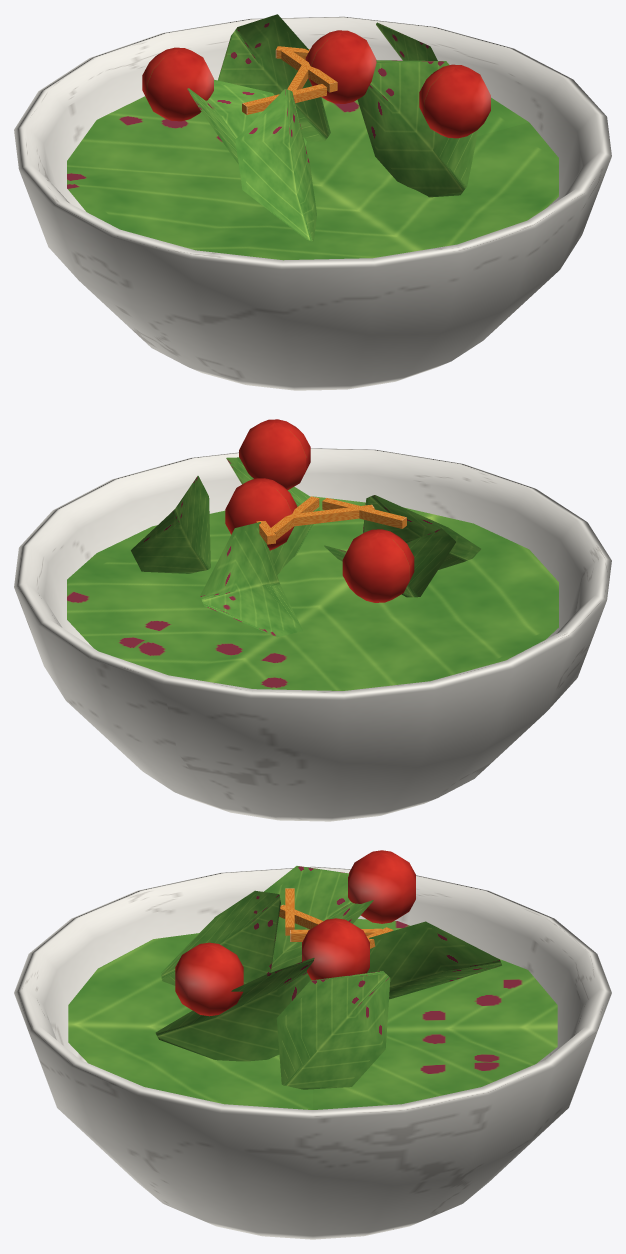
Rendered from gardensalad.obj.
3 renders of one model, top to bottom at view 1: azimuth 30°, elevation 25°; view 2: azimuth 150°, elevation 25°; view 3: azimuth 270°, elevation 25°, orthographic.
Visible parts, largest first — view 1: gardensalad_0_surface; view 2: gardensalad_0_surface; view 3: gardensalad_0_surface.
Boxes of the visible parts, left/top/right/bottom form: gardensalad_0_surface: left=14, top=14, right=611, bottom=390; gardensalad_0_surface: left=14, top=419, right=611, bottom=821; gardensalad_0_surface: left=14, top=850, right=611, bottom=1239.
Bounding box in the file's own units: 0.26 × 0.1285 × 0.26.
Materials: 1 (1 with a texture image).
